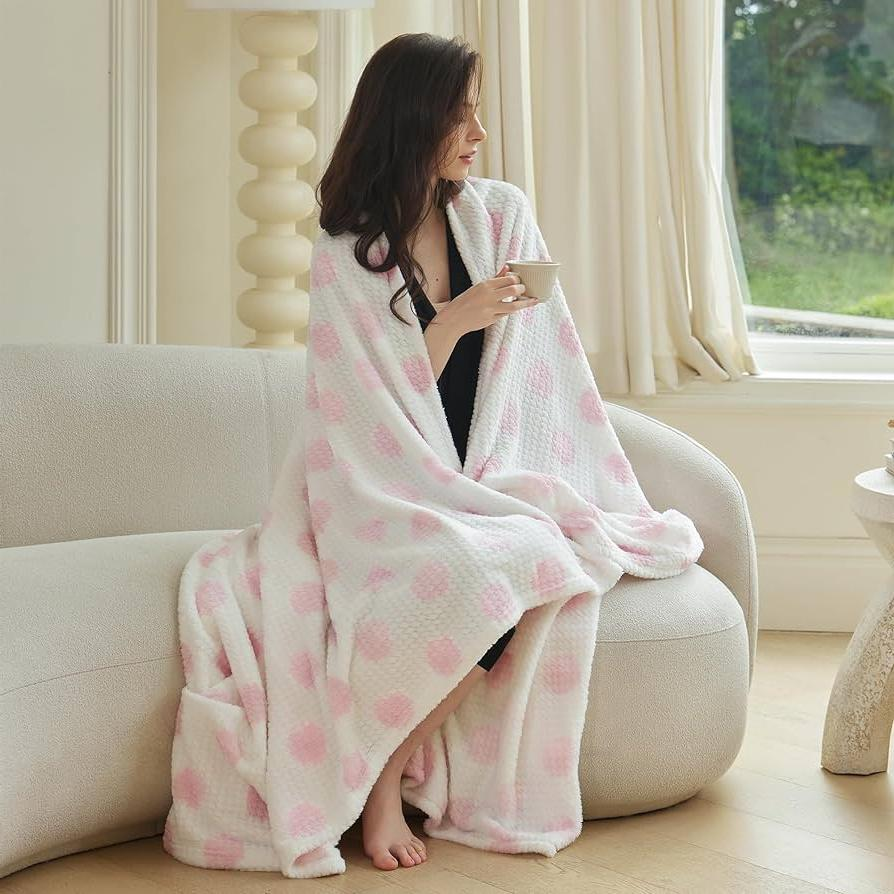blanket: (156, 168, 709, 882)
